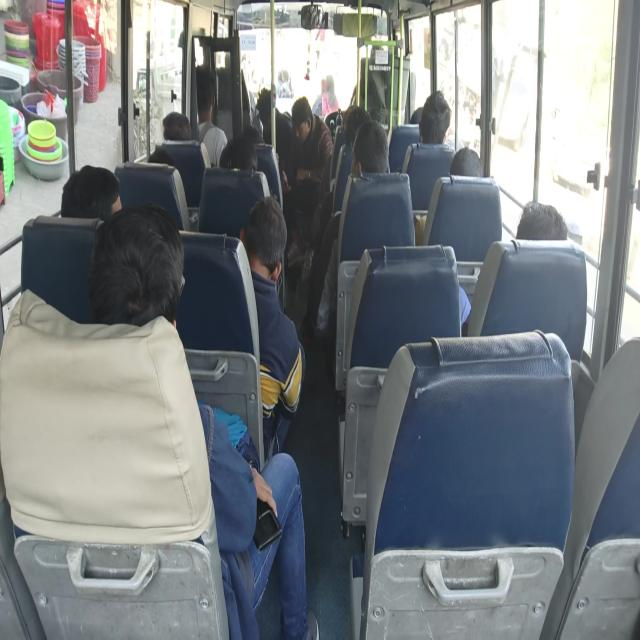person: (109, 228, 181, 336), (63, 171, 126, 221), (521, 200, 572, 260), (243, 194, 286, 260), (220, 36, 255, 86), (452, 146, 487, 190), (359, 128, 387, 176), (339, 105, 368, 145), (187, 74, 214, 115), (425, 98, 447, 148), (223, 142, 254, 176), (159, 115, 191, 147), (240, 124, 264, 154), (258, 86, 278, 119), (296, 102, 310, 136)
